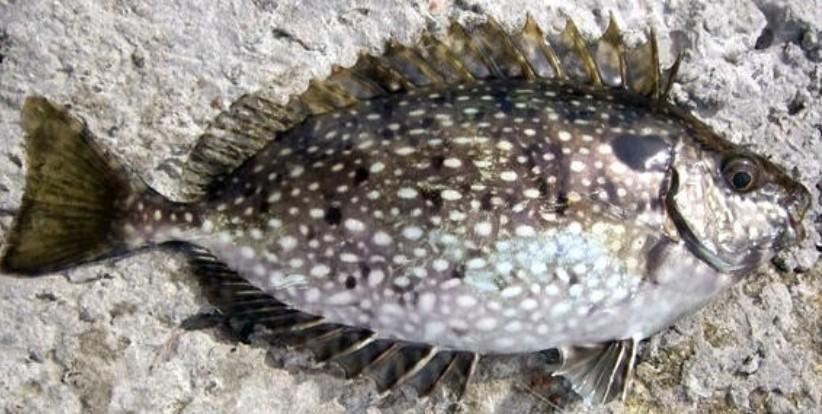fish: (0, 17, 810, 402)
